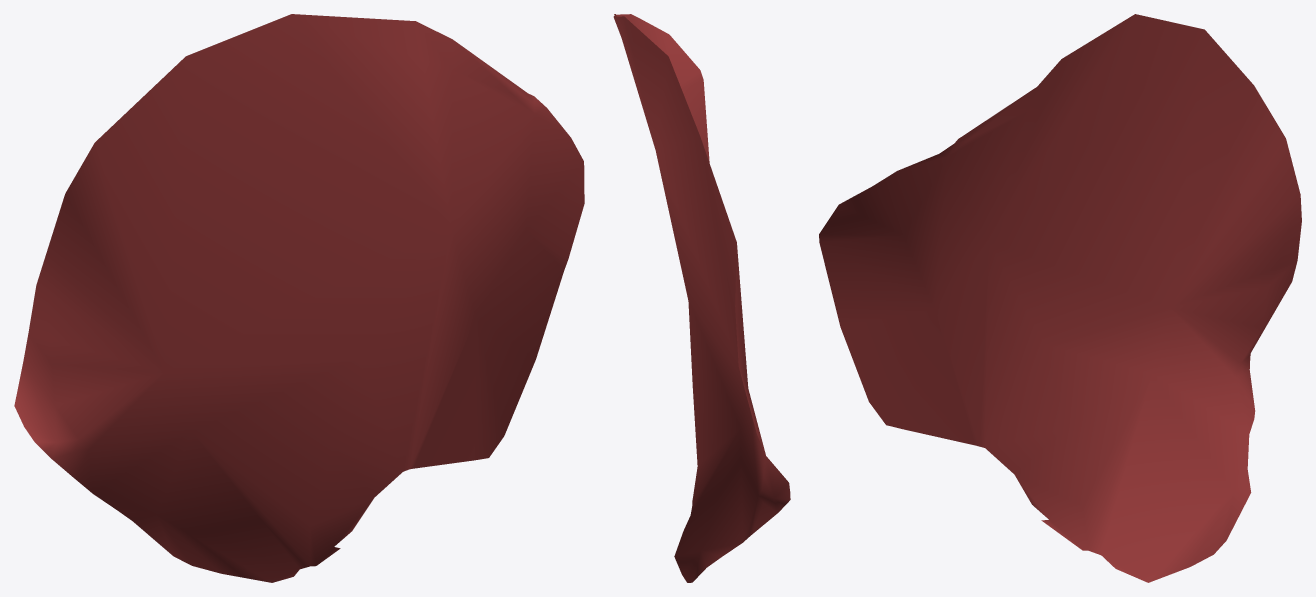
The model's file is gluteus-minimus-muscle-ol.glb.
The picture shows the model from 3 angles, left to right: view 1: azimuth 30°, elevation 25°; view 2: azimuth 150°, elevation 25°; view 3: azimuth 270°, elevation 25°; orthographic projection. The views are drawn at different scales.
Parts seen in each view (by area): view 1: Gluteus minimus muscle.ol; view 2: Gluteus minimus muscle.ol; view 3: Gluteus minimus muscle.ol.
Boxes of the visible parts, x1,y1,x2,y2 form: Gluteus minimus muscle.ol: (14, 14, 584, 582); Gluteus minimus muscle.ol: (613, 14, 790, 582); Gluteus minimus muscle.ol: (819, 14, 1301, 582).
Bounding box in the file's own units: 0.0537 × 0.079 × 0.0601.
